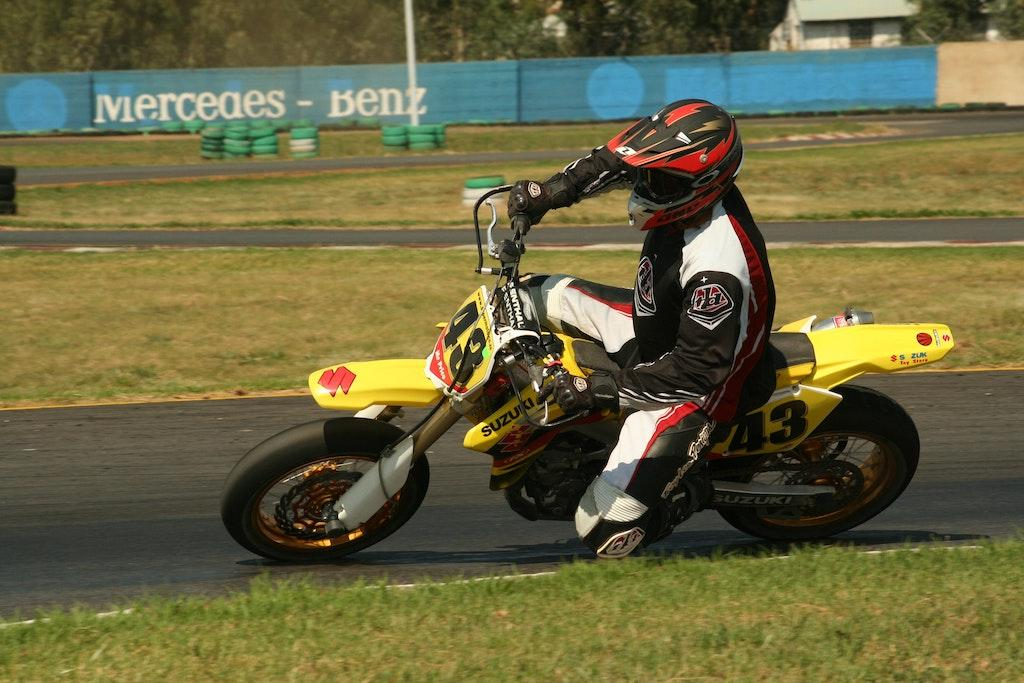helmet: (604, 97, 745, 232)
